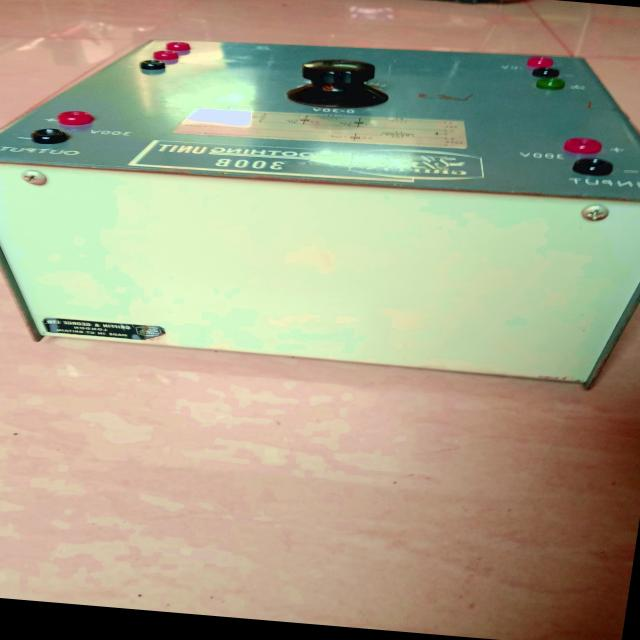Smoothing Unit: (0, 0, 640, 416)
